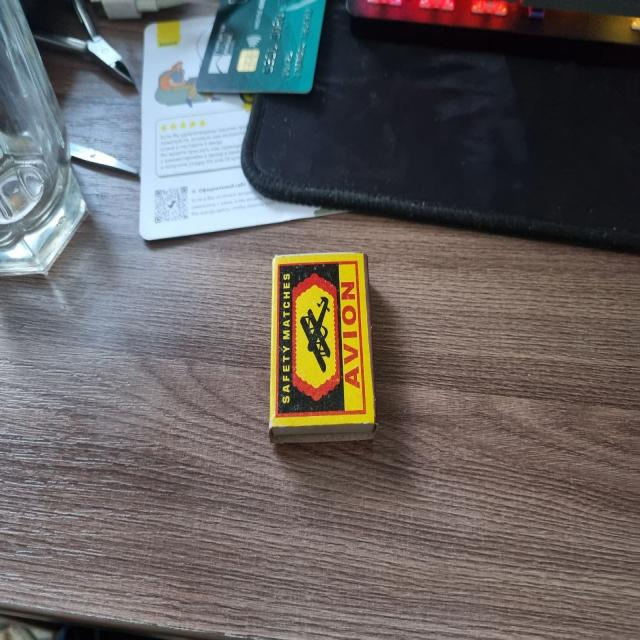match: (267, 249, 381, 448)
